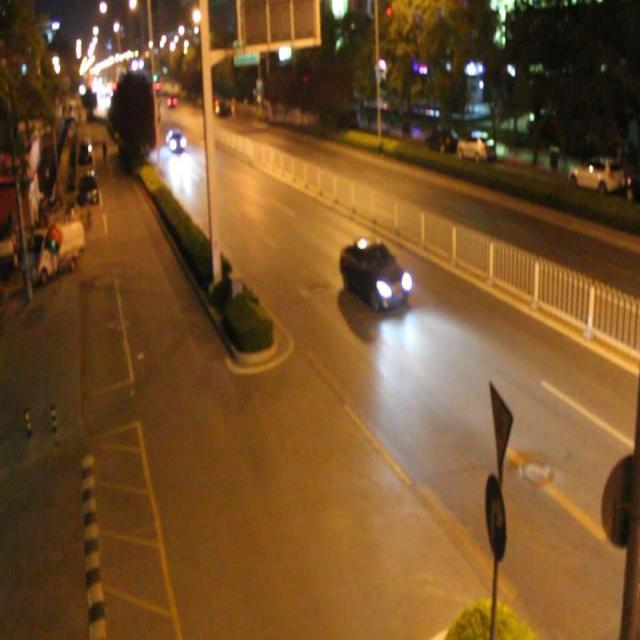car: (338, 240, 408, 310), (165, 128, 186, 152)
